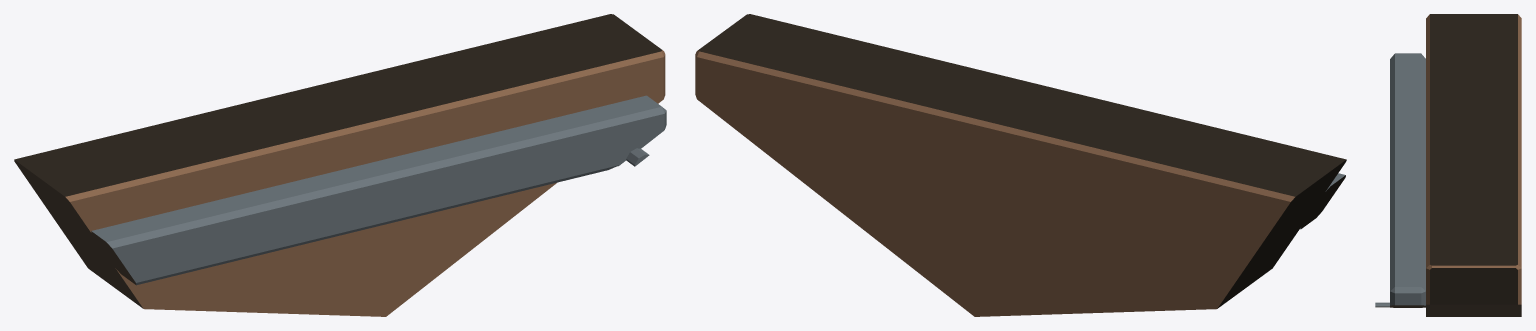
File: SM_DoorShard_01_40.fbx
3 views of the same model, side by side, from view 1: azimuth 30°, elevation 25°; view 2: azimuth 150°, elevation 25°; view 3: azimuth 270°, elevation 25° (orthographic). The views are drawn at different scales.
Visible parts, largest first — view 1: SM_DoorShard_01_40; view 2: SM_DoorShard_01_40; view 3: SM_DoorShard_01_40.
Part boxes in pixels (x1,y1,x2,y2): SM_DoorShard_01_40: (14,14,666,316); SM_DoorShard_01_40: (695,14,1346,316); SM_DoorShard_01_40: (1375,14,1521,316).
Bounding box in the file's own units: 99.76 × 24.5 × 31.16.
